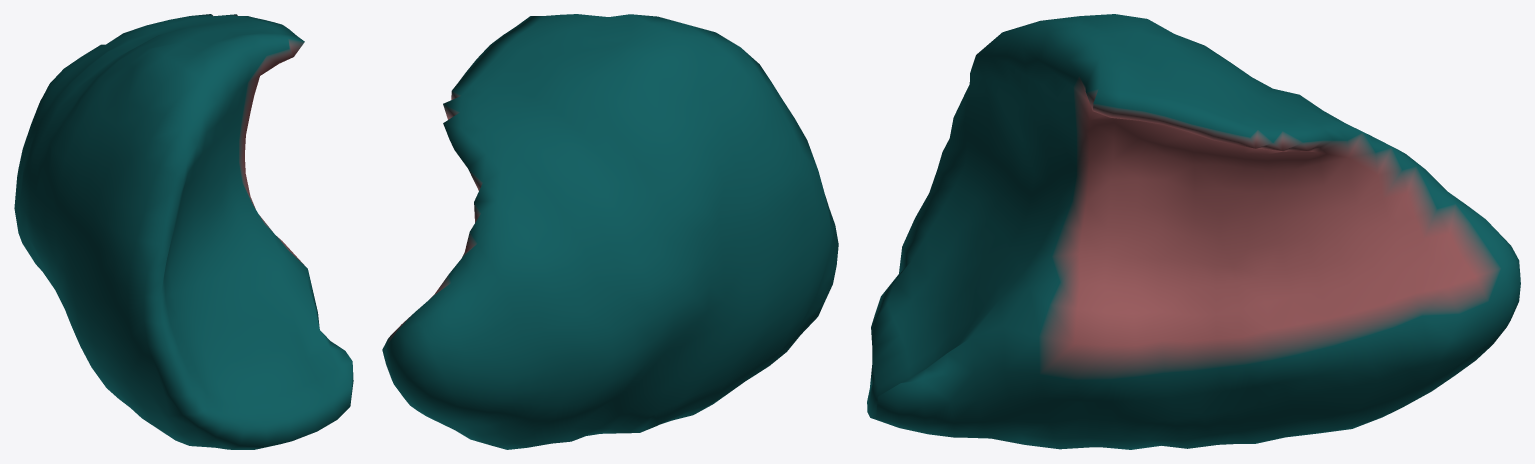
The model's file is Pleura_Right.FBX.
The picture shows the model from 3 angles, left to right: view 1: azimuth 30°, elevation 25°; view 2: azimuth 150°, elevation 25°; view 3: azimuth 270°, elevation 25°; orthographic projection. The views are drawn at different scales.
Parts seen in each view (by area): view 1: Pleura_Right-Snapshot; view 2: Pleura_Right-Snapshot; view 3: Pleura_Right-Snapshot.
Part boxes in pixels (x1,y1,x2,y2): Pleura_Right-Snapshot: (14,14,353,449); Pleura_Right-Snapshot: (382,14,838,449); Pleura_Right-Snapshot: (867,14,1520,449).
Size of the model in its own units: 139 by 201 by 280.
